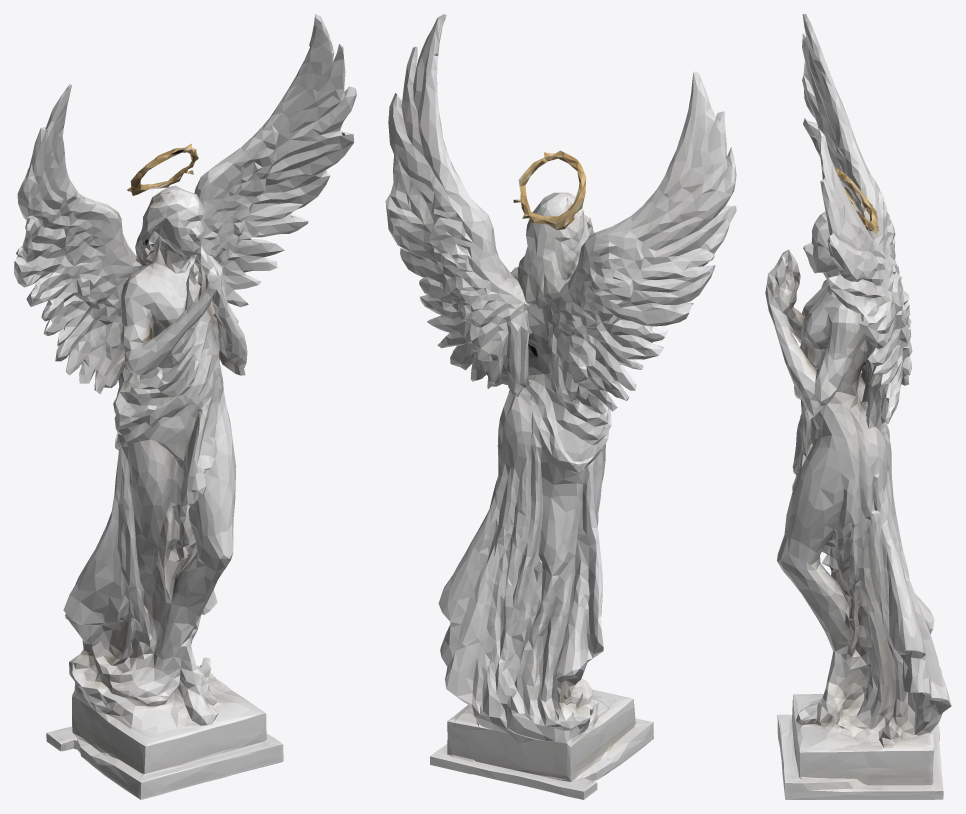
Rendered from 날개_달린_여신__0508113945_texture.fbx.
3 renders of one model, left to right at view 1: azimuth 30°, elevation 25°; view 2: azimuth 150°, elevation 25°; view 3: azimuth 270°, elevation 25°, orthographic. The views are drawn at different scales.
Visible parts, largest first — view 1: temp; view 2: temp; view 3: temp.
Boxes of the visible parts, x1=… form: temp: x1=14, y1=14, x2=356, y2=799; temp: x1=385, y1=14, x2=736, y2=799; temp: x1=765, y1=14, x2=951, y2=799.
Bounding box in the file's own units: 101 × 200 × 48.67.
1 material, 1 textured.
